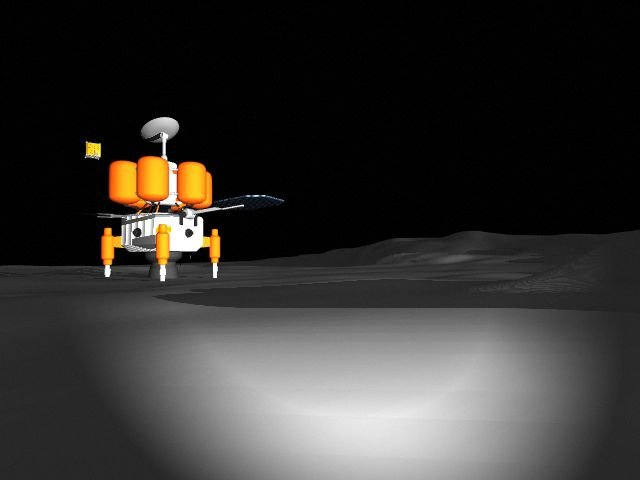cubesat: (81, 136, 103, 164)
